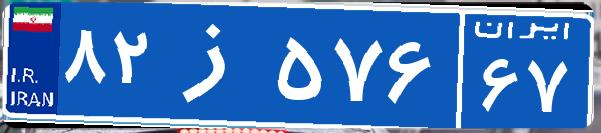2: (110, 28, 158, 105)
5: (273, 28, 330, 110)
6: (385, 28, 445, 110), (475, 38, 525, 113)
7: (330, 28, 385, 110), (525, 38, 570, 115)
8: (57, 26, 110, 107)
ز: (158, 15, 273, 115)
